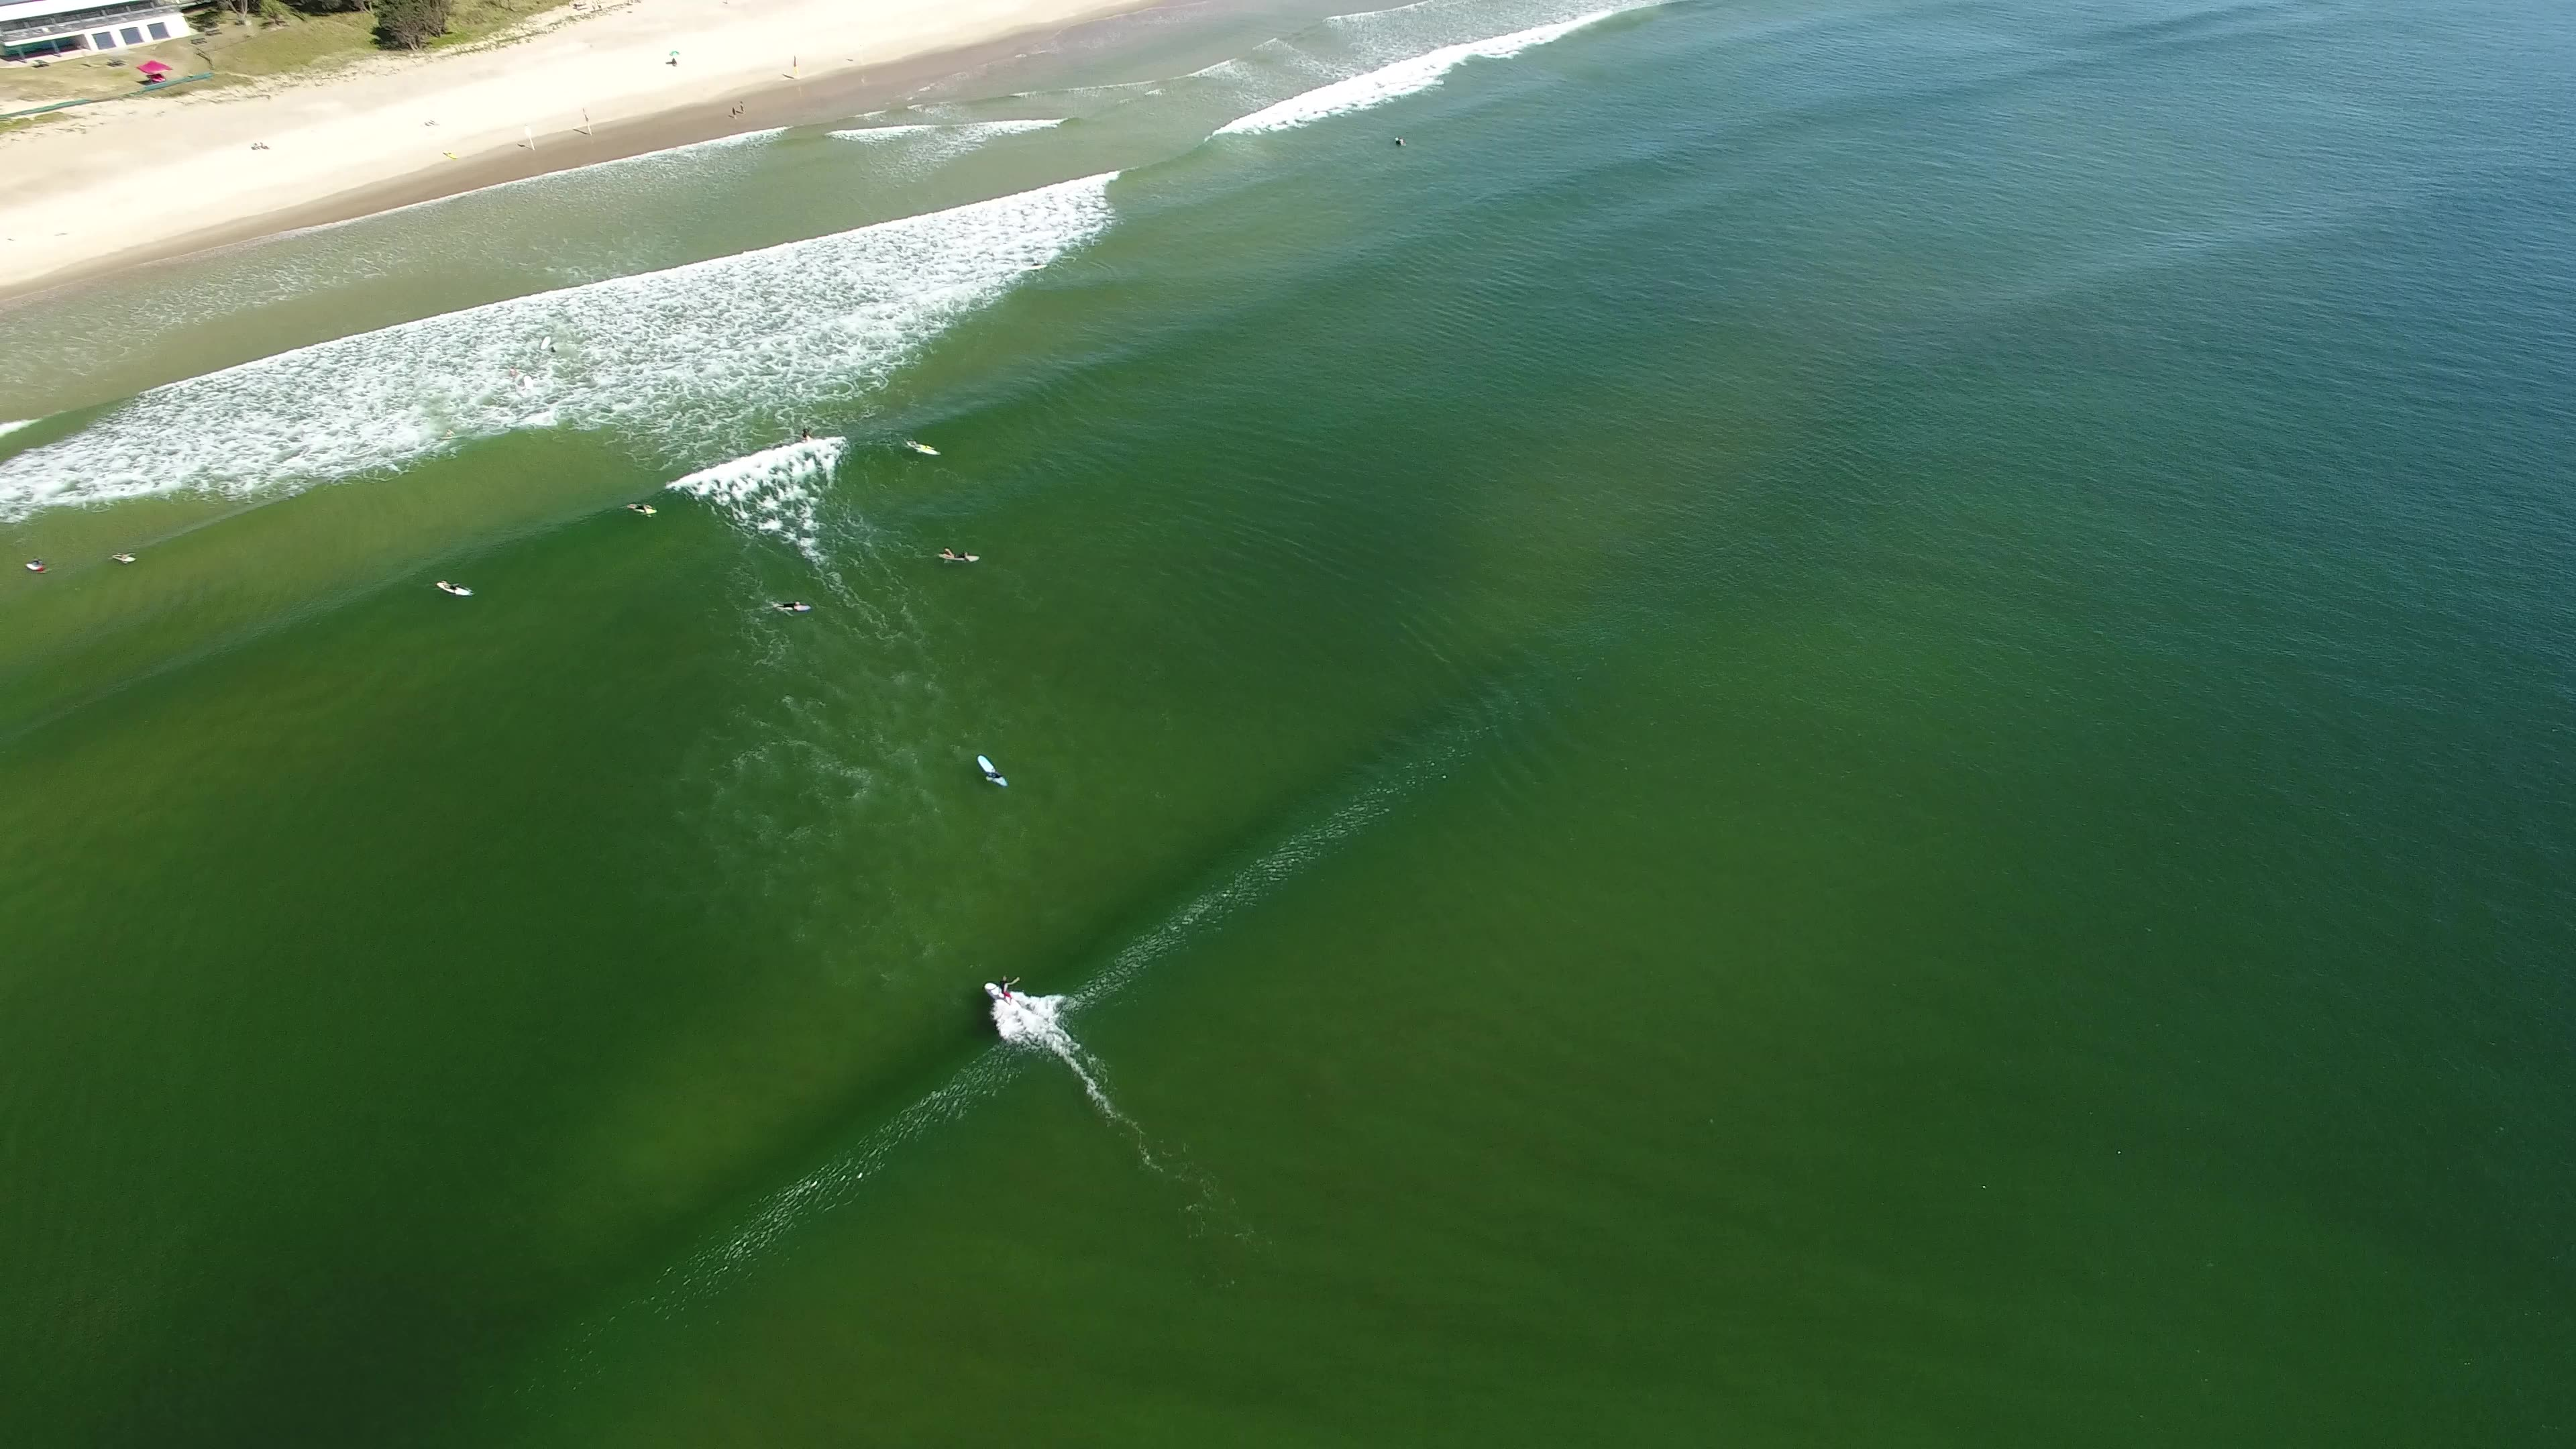surfer: (970, 747, 1016, 791), (977, 970, 1024, 1010), (929, 540, 987, 570), (426, 571, 483, 602), (619, 497, 667, 525), (766, 591, 814, 617), (909, 435, 950, 462), (19, 554, 64, 575), (108, 550, 142, 566)
